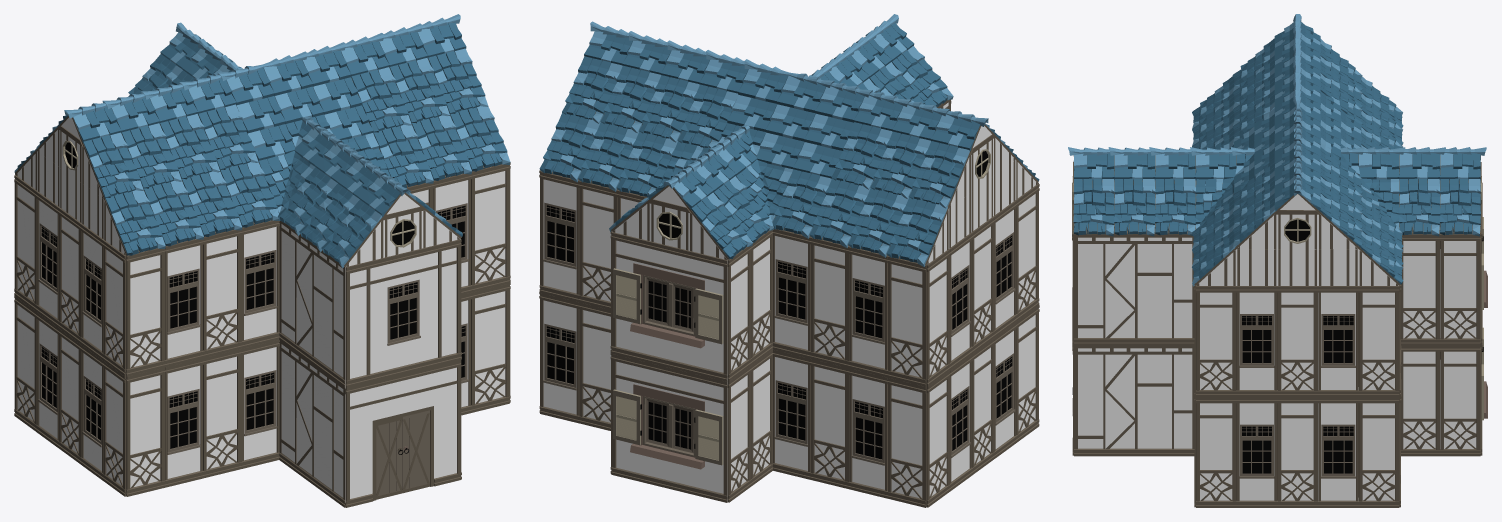
Rendered from House_18_Full.glb.
The picture shows the model from 3 angles, left to right: view 1: azimuth 30°, elevation 25°; view 2: azimuth 150°, elevation 25°; view 3: azimuth 270°, elevation 25°; orthographic projection. The views are drawn at different scales.
Visible parts, largest first — view 1: WINDOW_03_2, DOOR_03_1, WALL_05_2, WALL_05_3, WALL_04_5, WALL_04_4, WALL_04_6, WALL_04_9, WALL_04_3, WALL_04_10, WINDOW_04_5, WINDOW_04_6 (+62 smaller); view 2: WINDOW_06_1.001, WINDOW_06_1, WALL_04_17, WALL_04_18, WINDOW_04_15, WALL_04_19, WALL_04_20, WINDOW_04_19, WINDOW_04_16, WINDOW_04_20, WINDOW_04_14, WINDOW_04_13 (+64 smaller); view 3: WALL_05_5, WALL_05_4, WINDOW_04_21, WALL_04_25, WALL_04_26, WINDOW_04_24, WALL_04_23, WALL_04_24, WINDOW_04_22, WALL_04_34, WALL_04_36, WINDOW_04_23 (+55 smaller).
Boxes of the visible parts, x1,y1,x2,y2 form: WINDOW_03_2: (345, 239, 461, 387); DOOR_03_1: (345, 360, 461, 507); WALL_05_2: (279, 340, 345, 507); WALL_05_3: (279, 221, 345, 387); WALL_04_5: (126, 248, 165, 376); WALL_04_4: (126, 367, 165, 496); WALL_04_6: (203, 229, 241, 357); WALL_04_9: (471, 164, 509, 292); WALL_04_3: (203, 349, 241, 477); WALL_04_10: (471, 283, 509, 412); WINDOW_04_5: (165, 239, 203, 367); WINDOW_04_6: (241, 220, 279, 348); WINDOW_06_1.001: (611, 232, 727, 381); WINDOW_06_1: (611, 353, 727, 502); WALL_04_17: (810, 237, 849, 367); WALL_04_18: (810, 358, 849, 488); WINDOW_04_15: (848, 246, 887, 377); WALL_04_19: (887, 256, 926, 386); WALL_04_20: (887, 377, 926, 507); WINDOW_04_19: (540, 171, 579, 301); WINDOW_04_16: (848, 368, 887, 498); WINDOW_04_20: (540, 293, 579, 423); WINDOW_04_14: (772, 229, 810, 358); WINDOW_04_13: (772, 349, 810, 479); WALL_05_5: (1074, 345, 1194, 456); WALL_05_4: (1074, 234, 1194, 345); WINDOW_04_21: (1236, 286, 1277, 397); WALL_04_25: (1358, 286, 1399, 397); WALL_04_26: (1358, 397, 1399, 507); WINDOW_04_24: (1236, 397, 1277, 507); WALL_04_23: (1196, 286, 1236, 397); WALL_04_24: (1277, 286, 1317, 397); WINDOW_04_22: (1318, 286, 1358, 397); WALL_04_34: (1440, 345, 1480, 456); WALL_04_36: (1440, 234, 1480, 345); WINDOW_04_23: (1318, 397, 1358, 507).
Size of the model in its own units: 10.29 by 8.65 by 10.32.
1 material, 1 textured.
